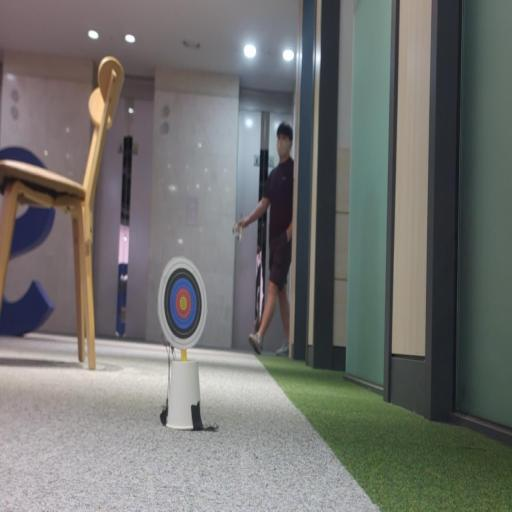target: (158, 257, 207, 349)
